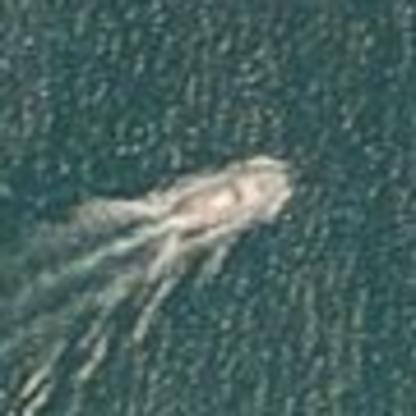ship: (164, 162, 298, 236)
